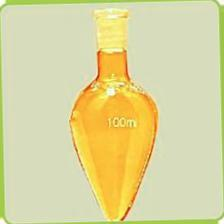Pear shaped flask: (70, 14, 159, 215)
